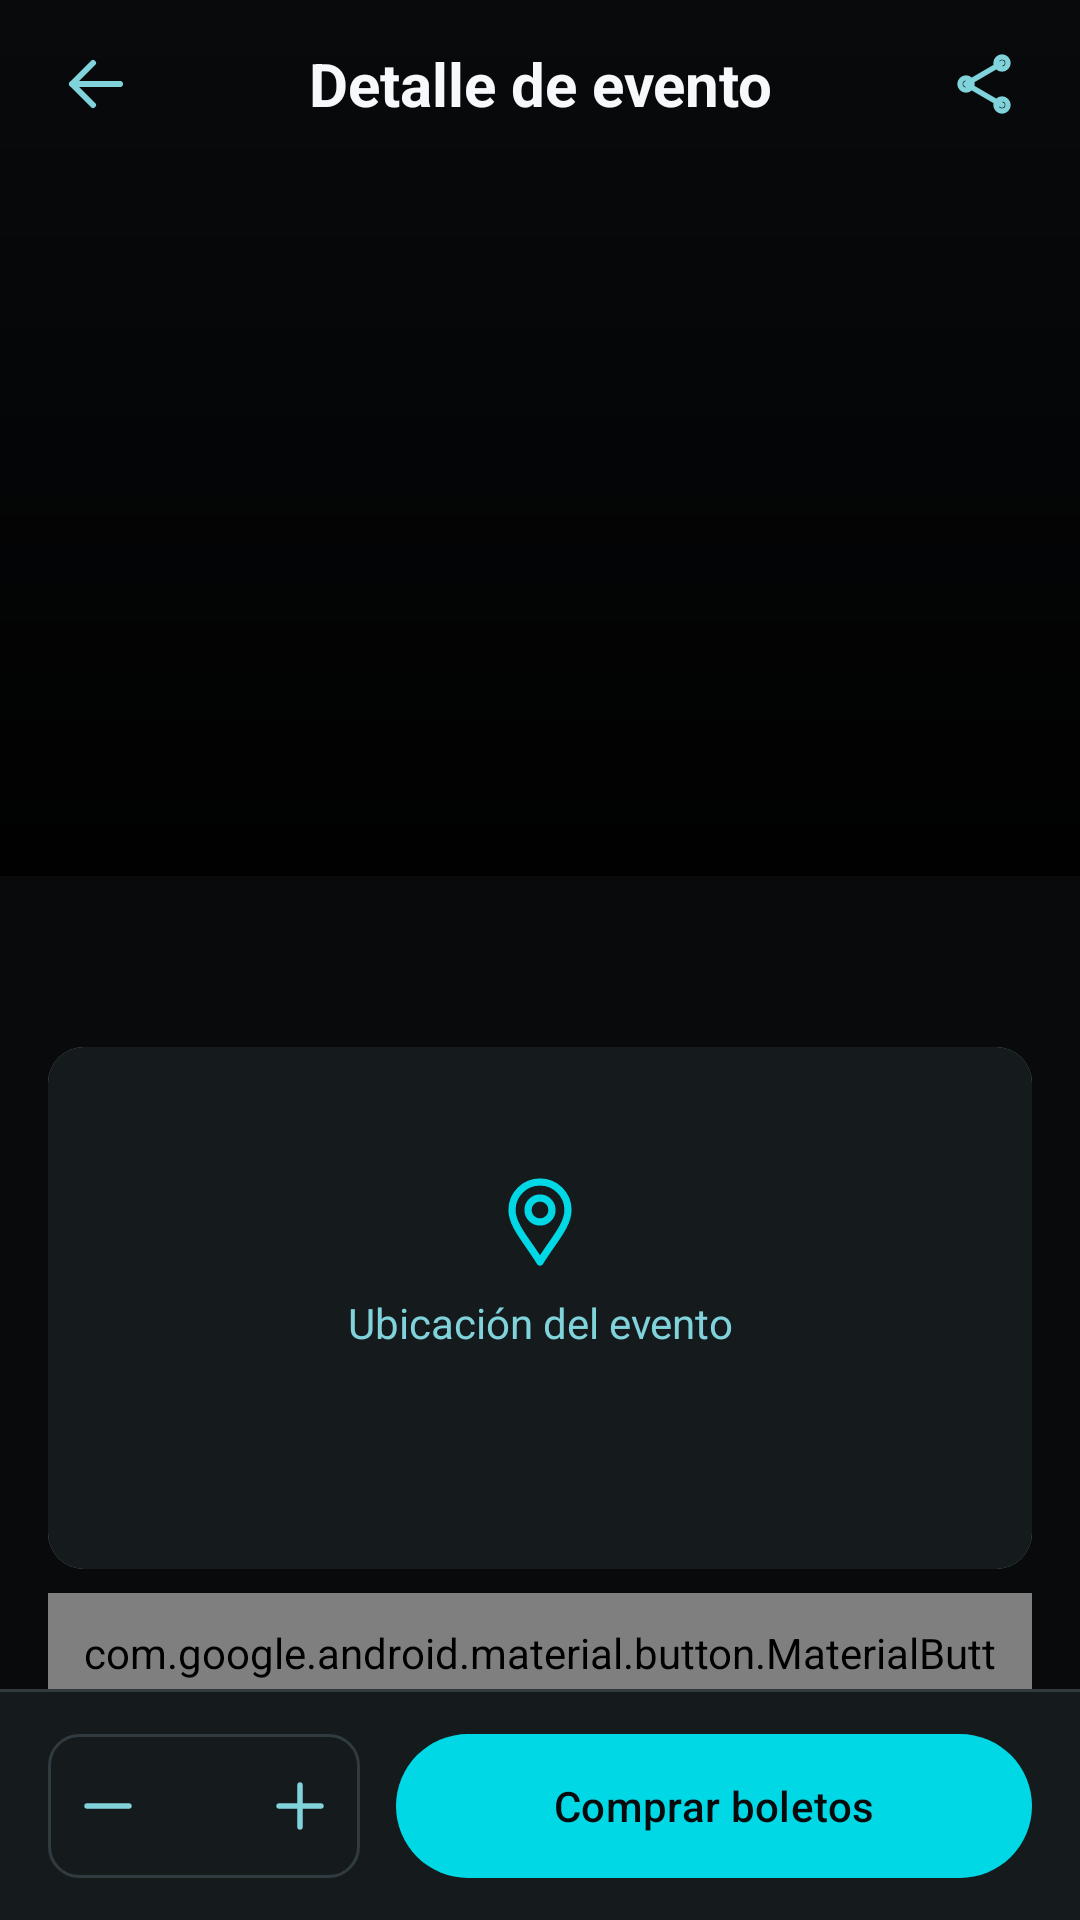

Named icons in this screenshot (1080 × 1920) and their centers, (x,y):
Aumentar cantidad: (300,1806)
Compartir evento: (984,84)
Disminuir cantidad: (108,1806)
location: (540,1222)
Volver: (96,84)
